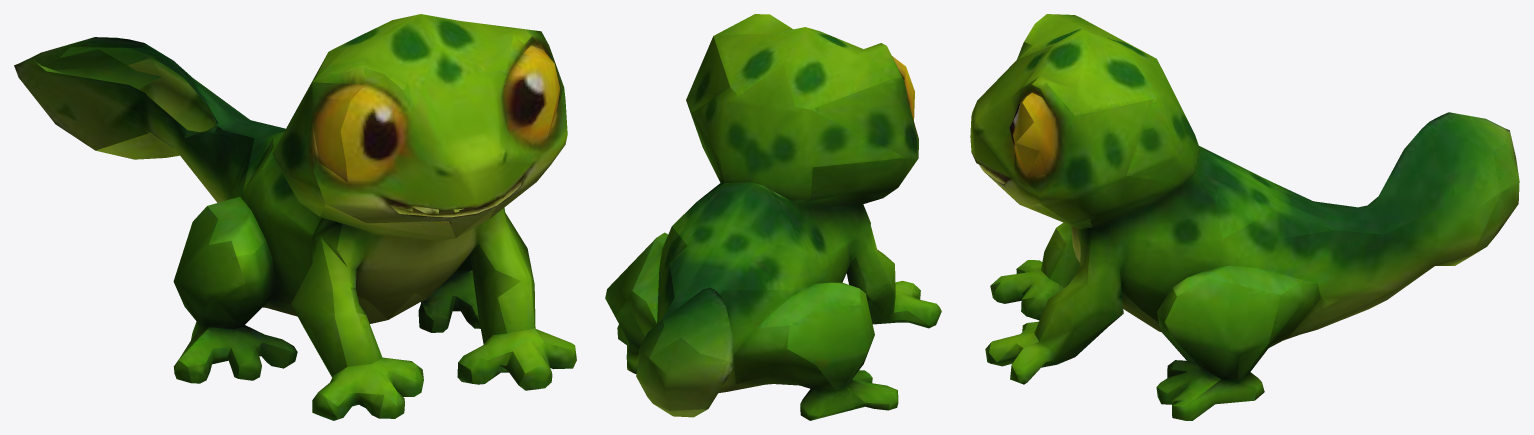
The model's file is m_grenouille_petit.glb.
3 views of the same model, side by side, from view 1: azimuth 30°, elevation 25°; view 2: azimuth 150°, elevation 25°; view 3: azimuth 270°, elevation 25° (orthographic). The views are drawn at different scales.
Visible parts, largest first — view 1: monstre; view 2: monstre; view 3: monstre.
Part boxes in pixels (left/top/right/bottom): monstre: left=14, top=14, right=576, bottom=420; monstre: left=605, top=14, right=941, bottom=420; monstre: left=970, top=14, right=1519, bottom=420.
Size of the model in its own units: 0.6293 by 0.6546 by 1.
1 material, 1 textured.
